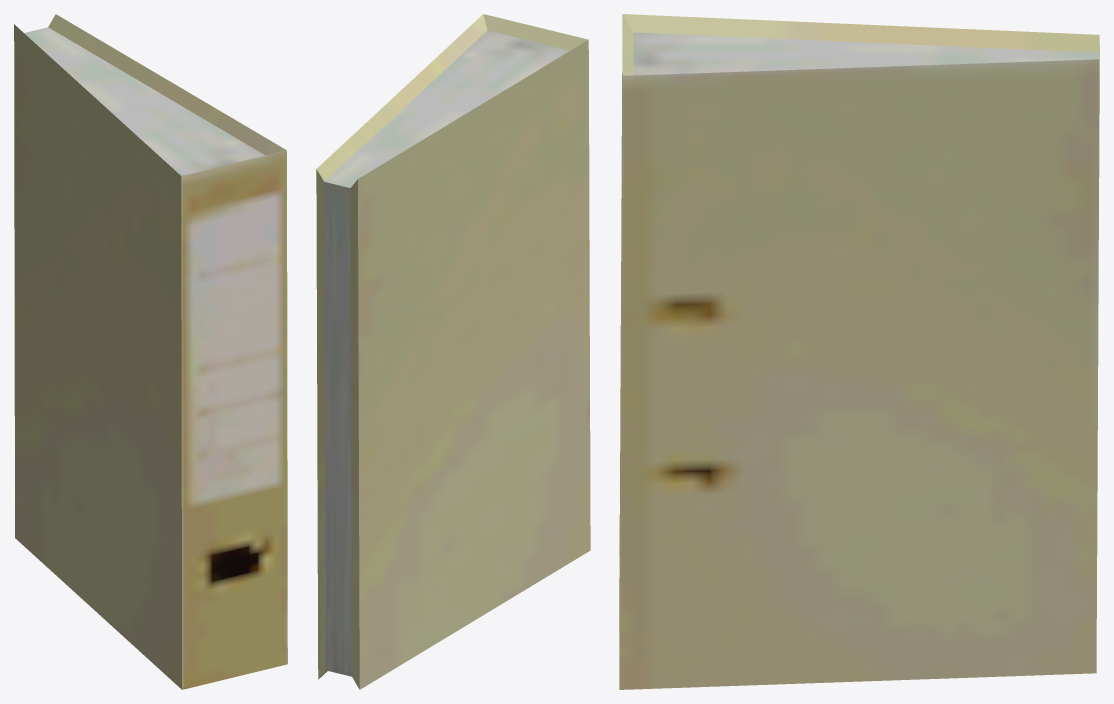
The model's file is file_binder_alt.obj.
3 views of the same model, side by side, from view 1: azimuth 30°, elevation 25°; view 2: azimuth 150°, elevation 25°; view 3: azimuth 270°, elevation 25° (orthographic). The views are drawn at different scales.
Parts seen in each view (by area): view 1: file_binder_alt; view 2: file_binder_alt; view 3: file_binder_alt.
Boxes of the visible parts, left/top/right/bottom form: file_binder_alt: left=14, top=14, right=287, bottom=689; file_binder_alt: left=316, top=14, right=590, bottom=689; file_binder_alt: left=619, top=14, right=1099, bottom=689.
Size of the model in its own units: 0.0915 by 0.4239 by 0.2995.
